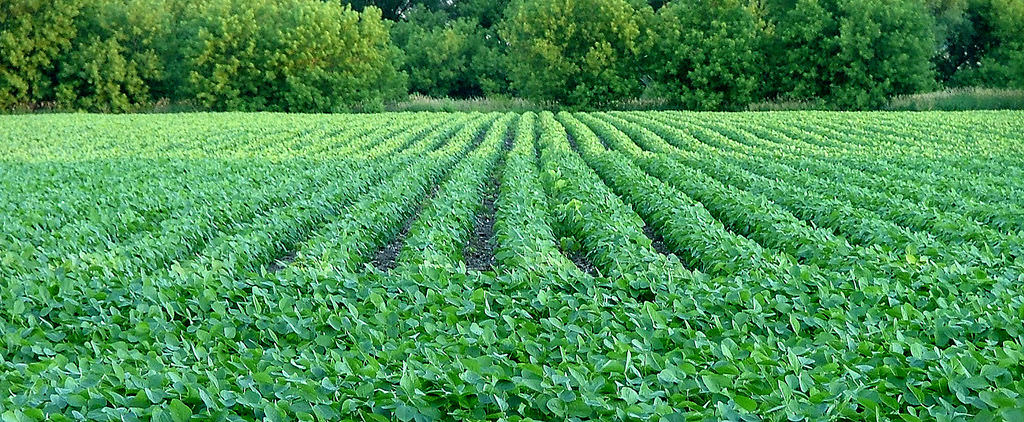soyabean: (1, 276, 1022, 419), (649, 182, 842, 253), (561, 188, 662, 253), (501, 192, 549, 252), (418, 197, 467, 251), (302, 223, 358, 264)
